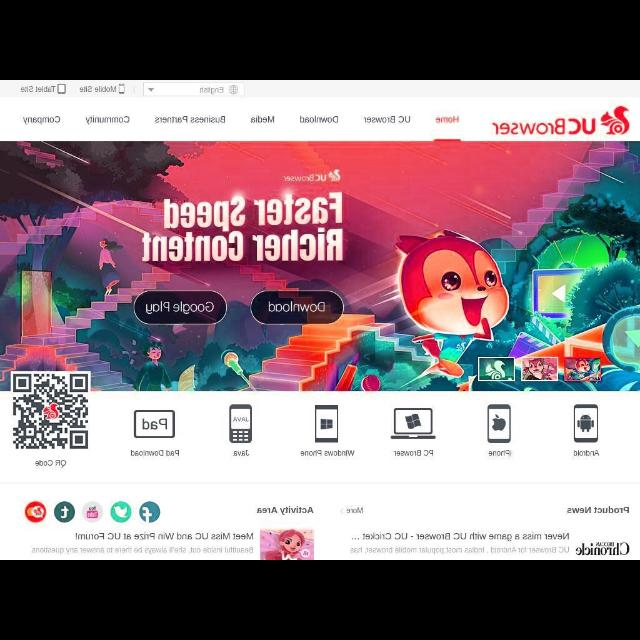backgroundimage: (5, 141, 638, 389), (258, 529, 314, 559)
icon: (568, 402, 604, 443), (390, 408, 436, 438), (486, 402, 514, 446), (312, 404, 340, 444), (134, 410, 174, 438), (228, 403, 254, 445), (336, 505, 346, 517), (58, 83, 66, 95), (228, 85, 240, 93), (118, 84, 126, 94), (148, 85, 156, 93)
image: (12, 372, 90, 450), (486, 102, 636, 140), (72, 530, 254, 542), (574, 536, 632, 558), (280, 166, 342, 184), (81, 501, 102, 524), (111, 501, 132, 523), (53, 502, 75, 522), (24, 502, 46, 522), (140, 502, 160, 522)
spinner: (144, 82, 246, 96)
text: (142, 190, 346, 266), (28, 546, 254, 558), (72, 532, 254, 544), (346, 546, 570, 554), (350, 533, 572, 541), (566, 502, 632, 516), (147, 302, 215, 314), (266, 300, 328, 312), (154, 116, 226, 124), (362, 115, 413, 126), (20, 113, 60, 127), (256, 506, 314, 514), (84, 115, 130, 125), (299, 448, 356, 456), (297, 116, 341, 124), (34, 458, 66, 469), (130, 449, 178, 456), (393, 449, 435, 457), (78, 85, 118, 93), (20, 85, 56, 93), (250, 115, 276, 126), (488, 448, 514, 458), (346, 504, 366, 516), (570, 449, 602, 456), (436, 115, 460, 124), (200, 86, 222, 94), (234, 450, 250, 458)
textbutton: (135, 292, 225, 324), (251, 292, 343, 322)
